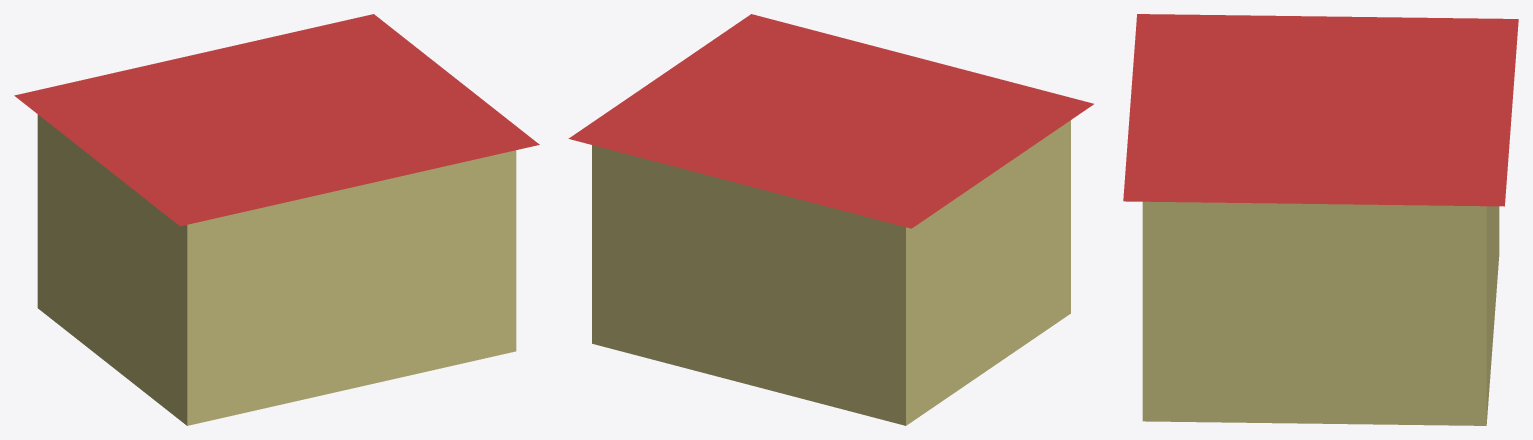
3 views of the same model, side by side, from view 1: azimuth 30°, elevation 25°; view 2: azimuth 150°, elevation 25°; view 3: azimuth 270°, elevation 25° (orthographic). The views are drawn at different scales.
Parts seen in each view (by area): view 1: group_5, group_3, group_4; view 2: group_5, group_3, group_4; view 3: group_5, group_3, group_4.
Part boxes in pixels (x1=…): group_5: x1=37, y1=114, x2=516, y2=425; group_3: x1=14, y1=14, x2=539, y2=226; group_4: x1=15, y1=14, x2=537, y2=225; group_5: x1=592, y1=120, x2=1070, y2=425; group_3: x1=568, y1=14, x2=1093, y2=228; group_4: x1=569, y1=15, x2=1093, y2=228; group_5: x1=1142, y1=201, x2=1499, y2=425; group_3: x1=1123, y1=14, x2=1518, y2=206; group_4: x1=1123, y1=14, x2=1518, y2=205.
Size of the model in its own units: 12.08 by 10.49 by 6.67.
